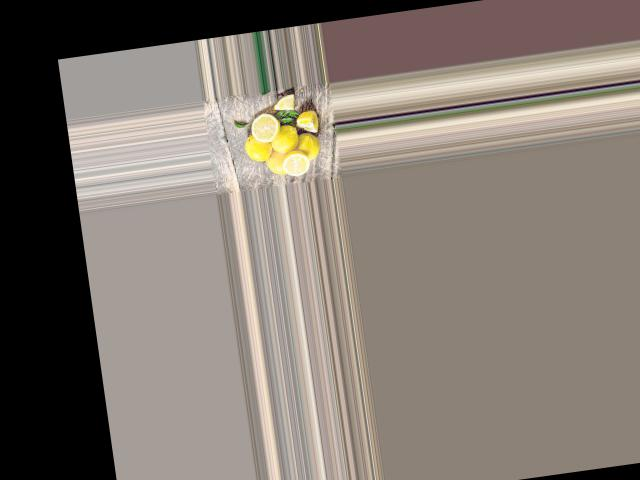lemon: (292, 129, 322, 160)
